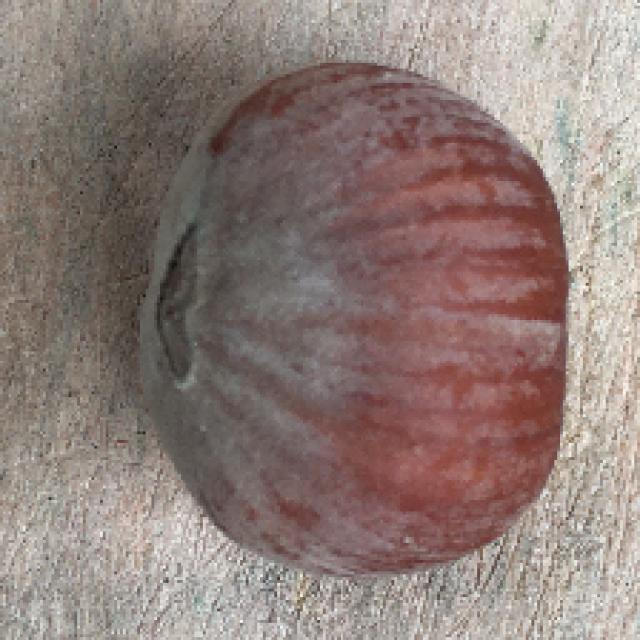qualityHazelnut: (134, 59, 577, 584)
